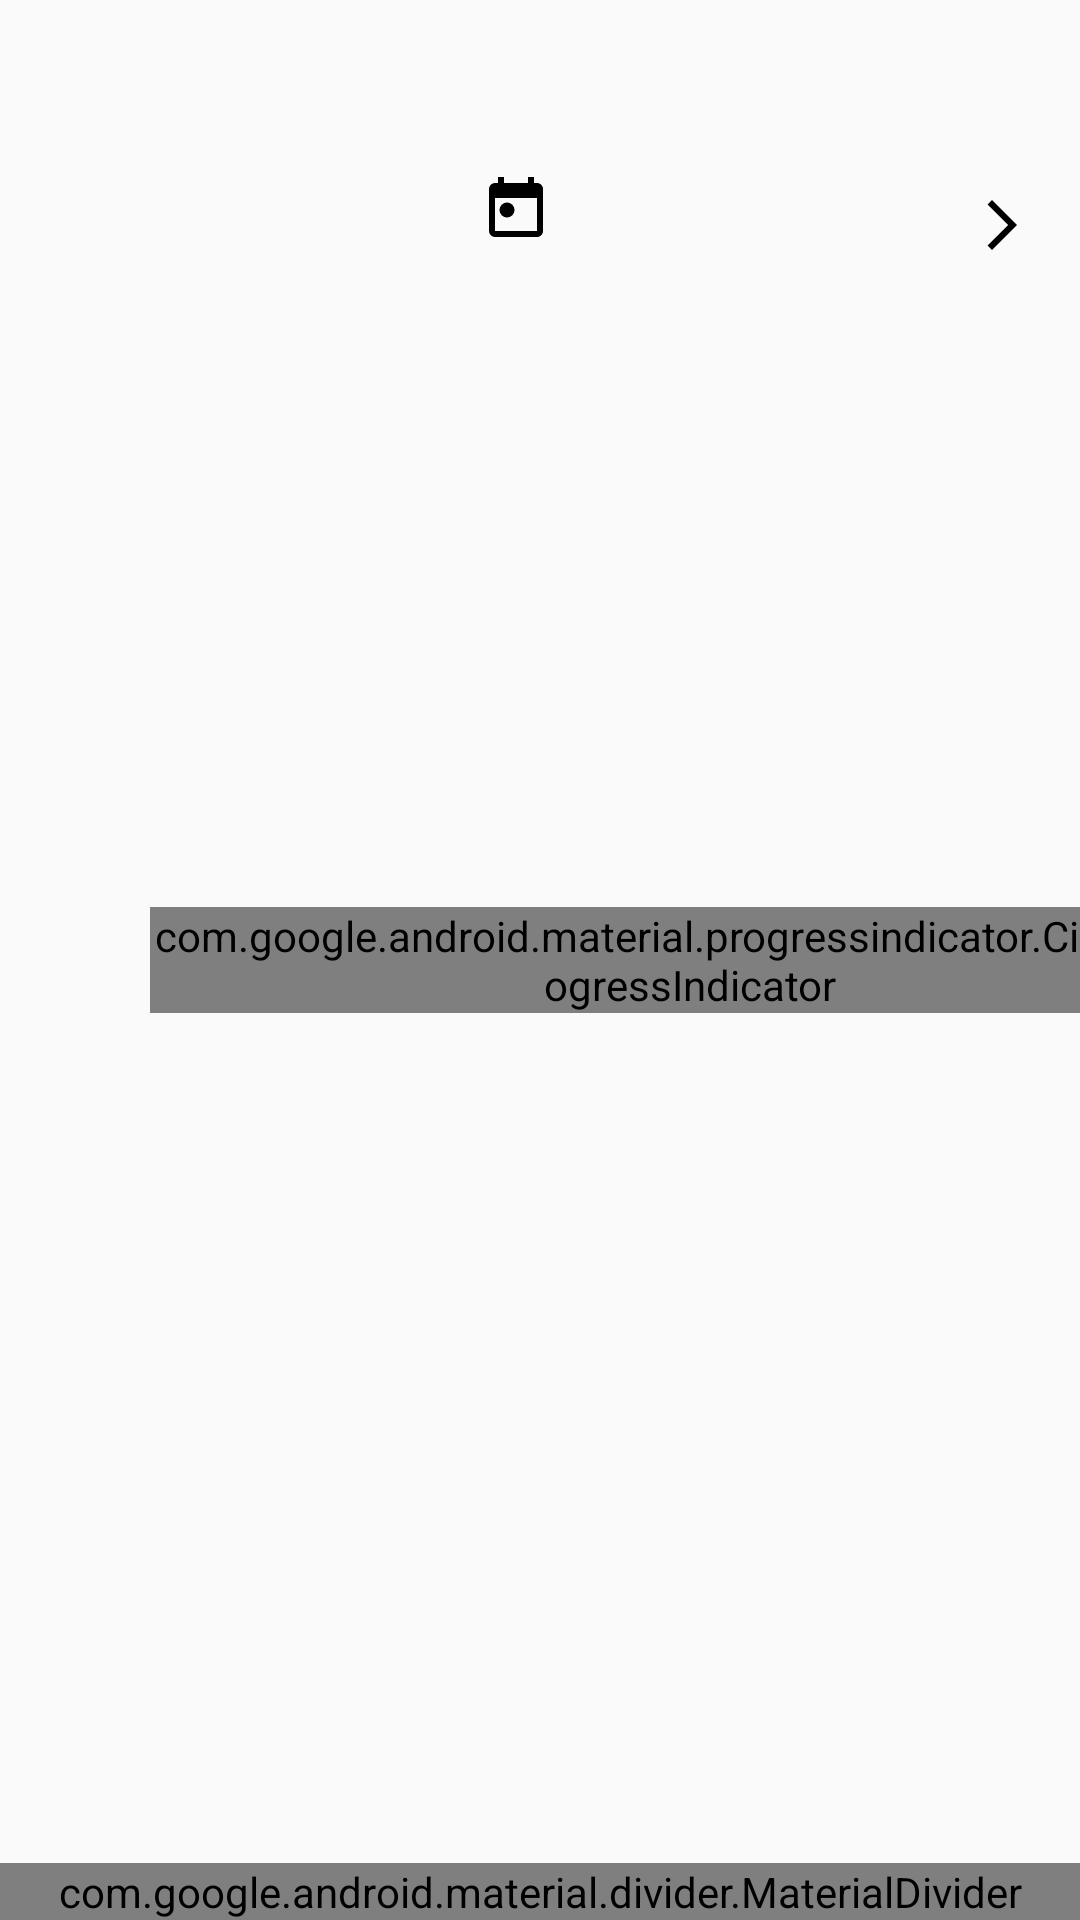

Named icons in this screenshot (1080 x 1920) and their bounding boxes, [x1,y1,x2,y2]:
calendar: [489,177,543,237]
next: [987,200,1017,250]
